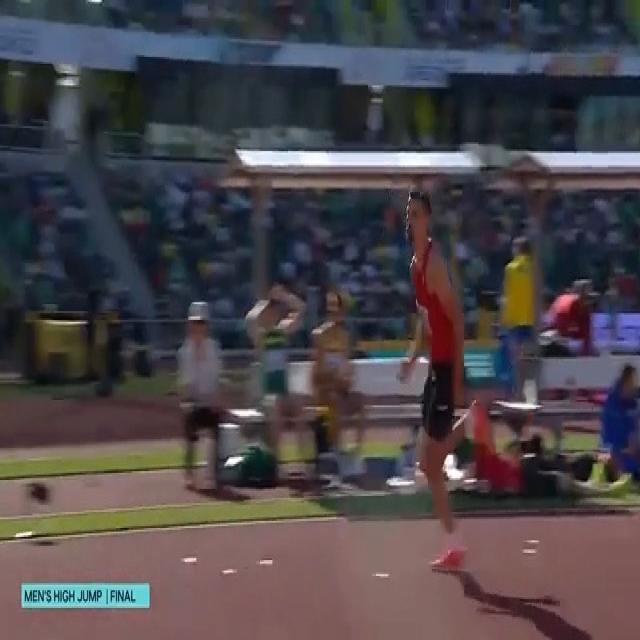run: (402, 185, 497, 575)
